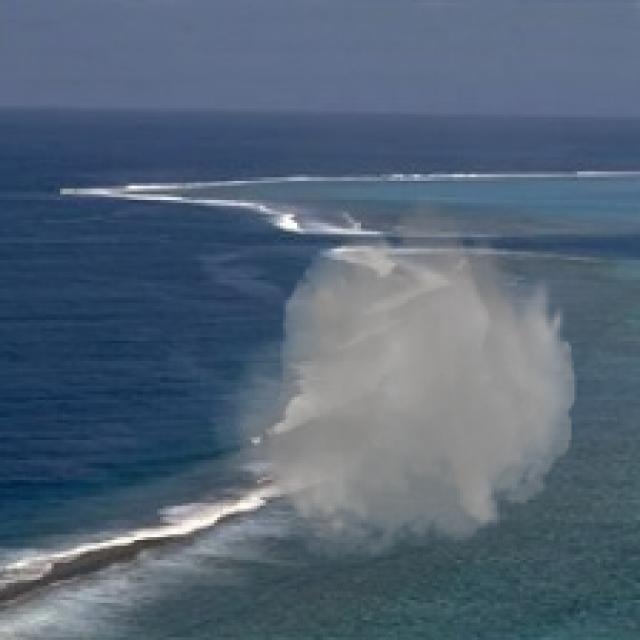smoke: (208, 186, 586, 574)
